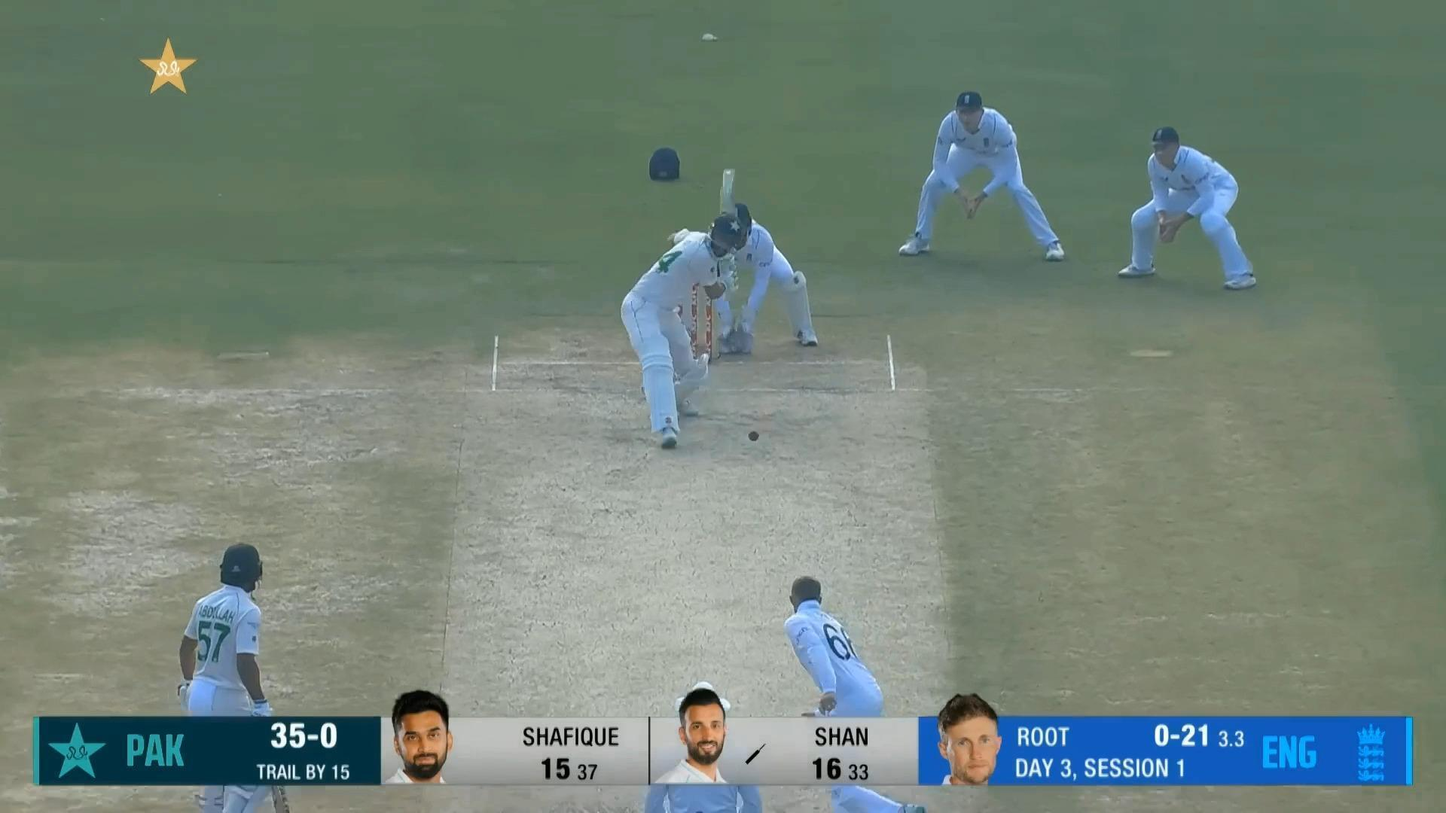BM 1: (621, 169, 737, 449)
BO: (782, 575, 928, 813)
